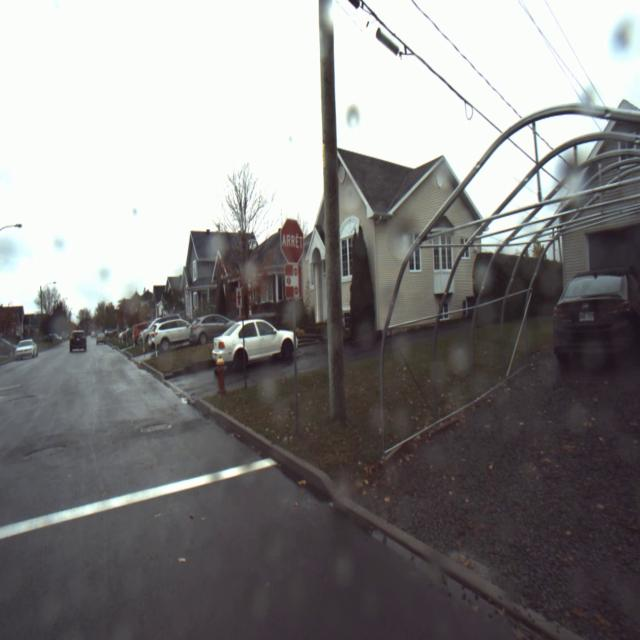car: (65, 321, 95, 362)
